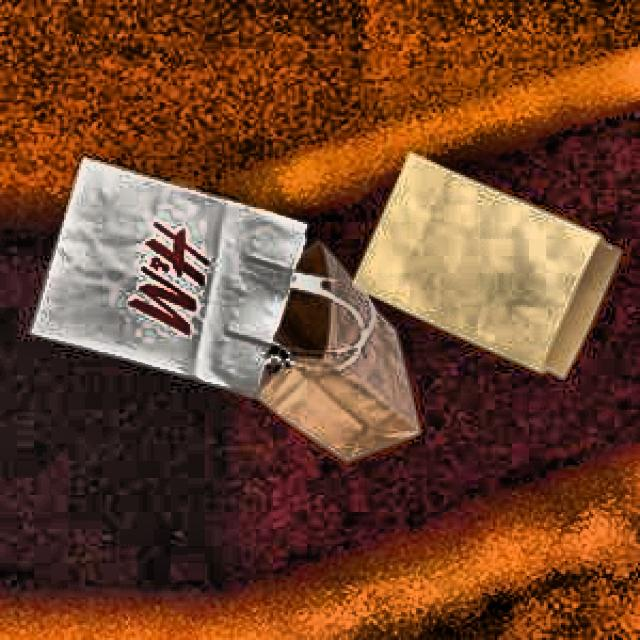Paper-bag: (11, 144, 319, 423), (338, 149, 628, 397), (236, 238, 445, 472)
